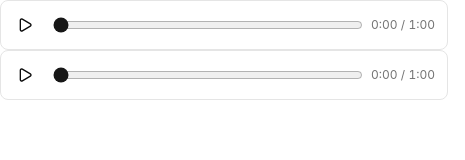
Scenario: InlineAudio › pauses other inline players when one starts
Step 1. Click the button named "Play Song A" → (25, 25), box [5,5,45,45]
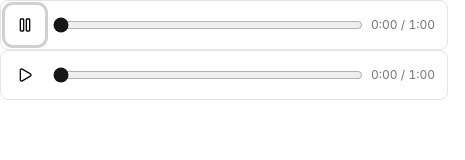
Step 2. Click the button named "Play Song B" → (25, 75), box [5,55,45,95]
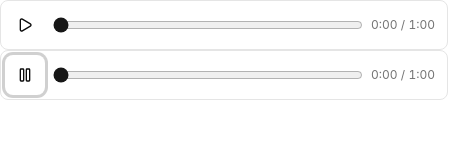
expect the button named "Play Song A" is shown: met, box [5,5,45,45]
expect the button named "Pause Song B" is shown: met, box [5,55,45,95]
